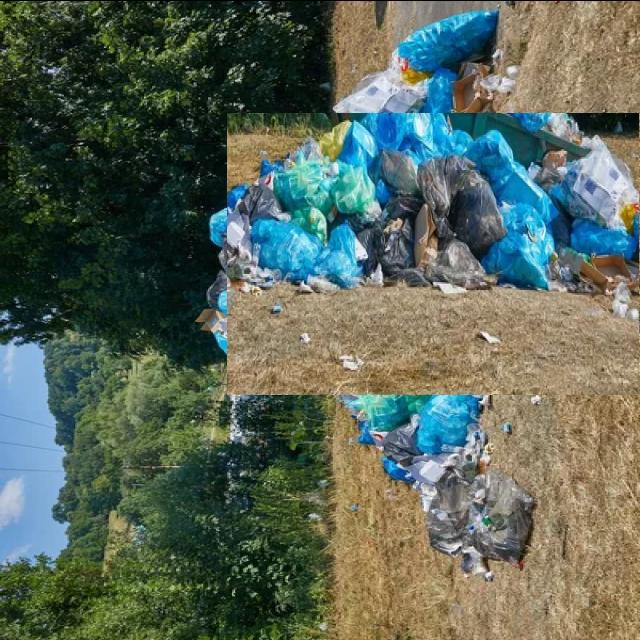garbage: (269, 70, 634, 436)
